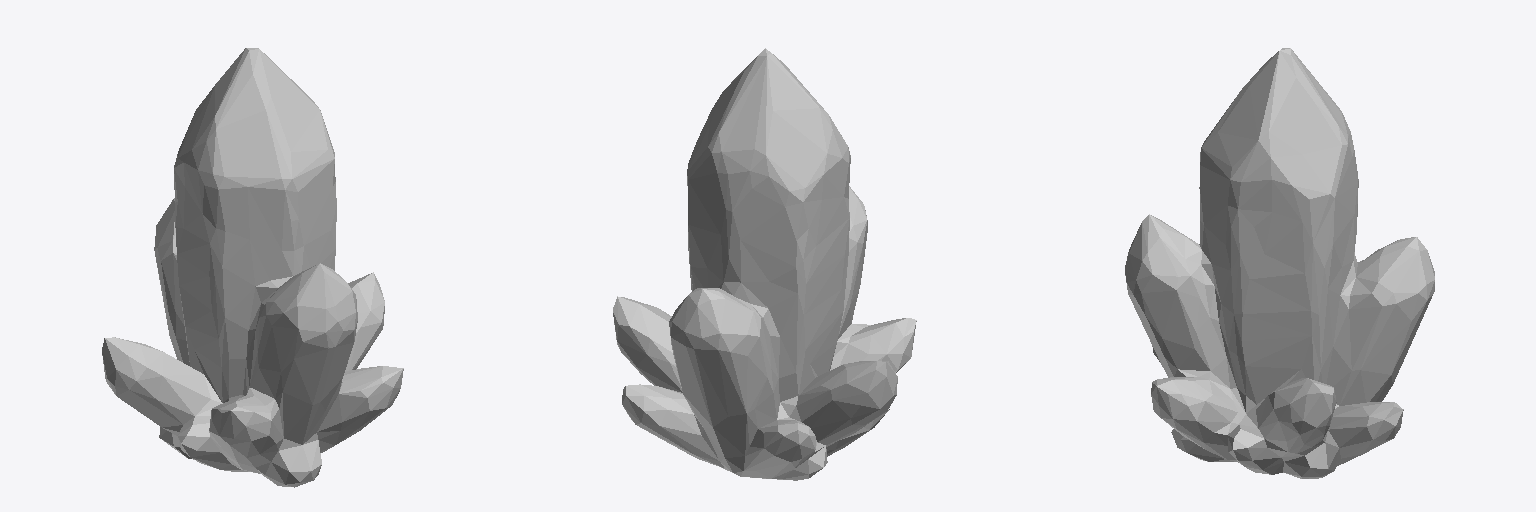
Rendered from crystalized_ectoplasm.obj.
3 renders of one model, left to right at view 1: azimuth 30°, elevation 25°; view 2: azimuth 150°, elevation 25°; view 3: azimuth 270°, elevation 25°, orthographic.
Parts seen in each view (by area): view 1: RETOPO; view 2: RETOPO; view 3: RETOPO.
Boxes of the visible parts, box(x1,y1,x2,y2) form: RETOPO: box(102, 48, 403, 487); RETOPO: box(613, 48, 916, 480); RETOPO: box(1125, 48, 1434, 478).
Size of the model in its own units: 0.6936 by 1 by 0.6802.